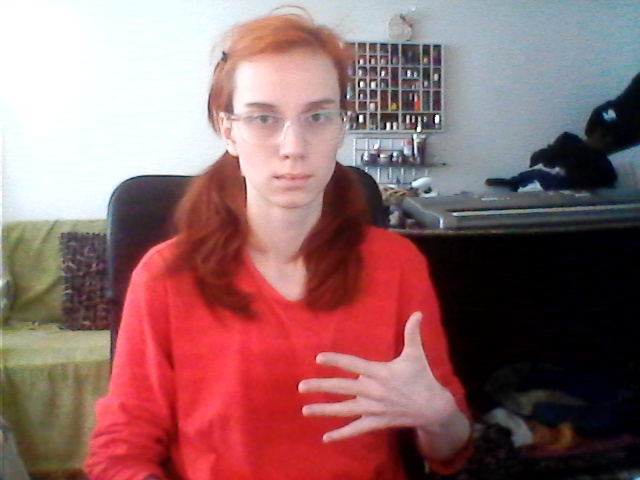pat: (295, 312, 456, 444)
